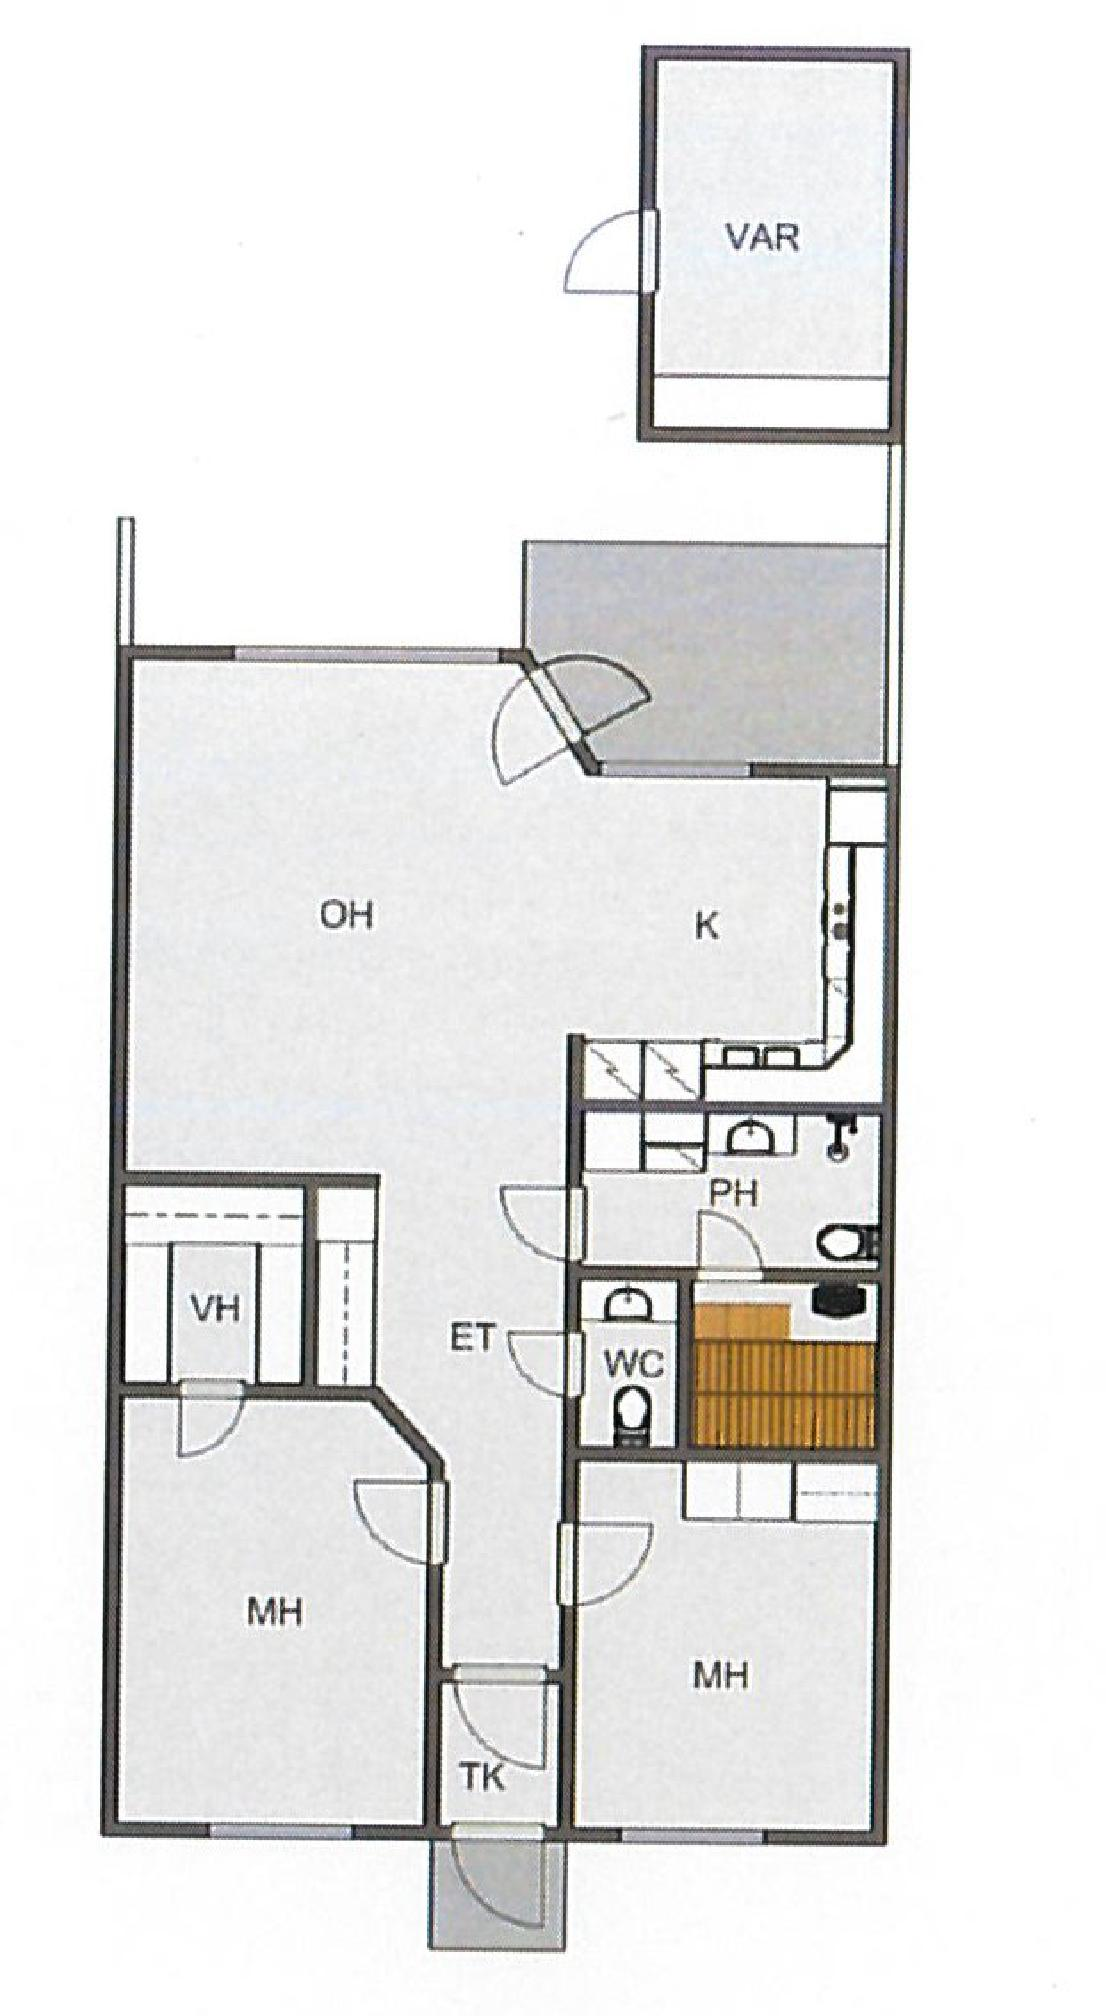door: (481, 647, 658, 787), (347, 1472, 464, 1583), (558, 206, 674, 301), (493, 1177, 610, 1269), (454, 1657, 549, 1768), (454, 1820, 549, 1932), (543, 1525, 657, 1610), (497, 1329, 595, 1412), (693, 1197, 770, 1295), (170, 1373, 245, 1462)
window: (233, 643, 494, 668), (610, 751, 755, 790), (620, 1820, 768, 1855), (210, 1816, 355, 1843)
zone: (135, 653, 914, 1658), (124, 1401, 430, 1825), (587, 1461, 866, 1825), (661, 53, 887, 423), (528, 544, 887, 758), (587, 1109, 874, 1265), (133, 1176, 297, 1376), (695, 1281, 874, 1451), (587, 1284, 680, 1439)
